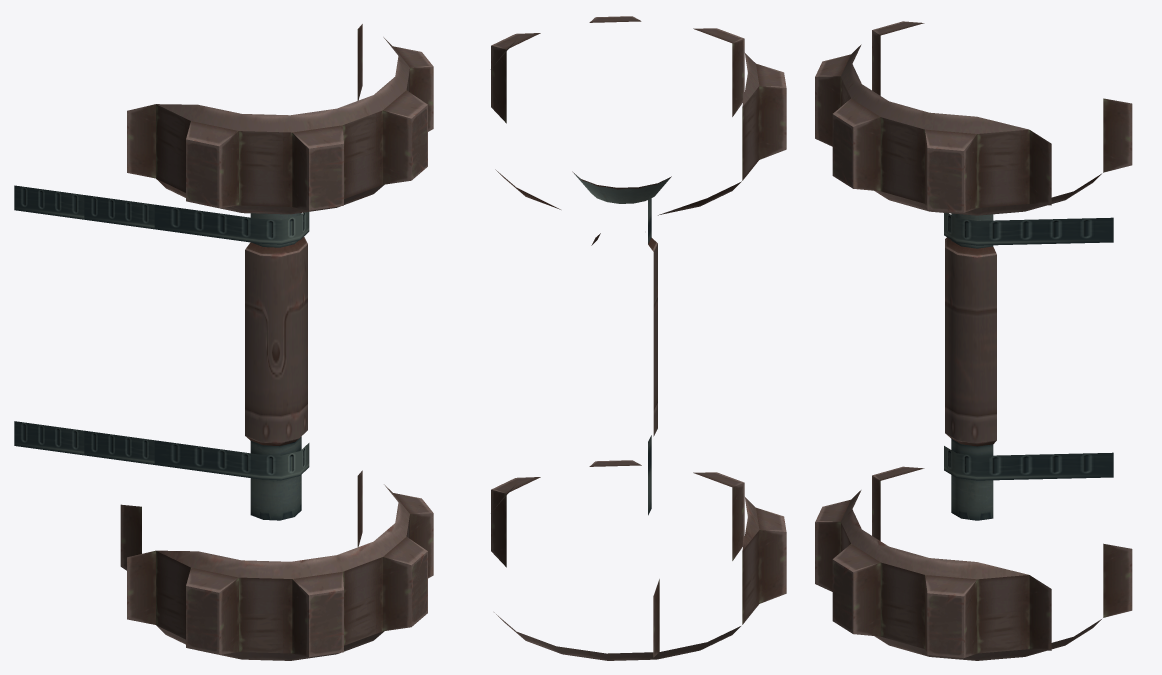
The model's file is gategear.glb.
The picture shows the model from 3 angles, left to right: view 1: azimuth 30°, elevation 25°; view 2: azimuth 150°, elevation 25°; view 3: azimuth 270°, elevation 25°; orthographic projection.
Visible parts, largest first — view 1: lab.gategear-MeshSets[device_left].Mesh[0], lab.gategear-MeshSets[device_left].Mesh[1]; view 2: lab.gategear-MeshSets[device_left].Mesh[0]; view 3: lab.gategear-MeshSets[device_left].Mesh[0], lab.gategear-MeshSets[device_left].Mesh[1].
Boxes of the visible parts, x1,y1,x2,y2 form: lab.gategear-MeshSets[device_left].Mesh[0]: (120,24,433,660); lab.gategear-MeshSets[device_left].Mesh[1]: (14,185,309,480); lab.gategear-MeshSets[device_left].Mesh[0]: (490,16,786,660); lab.gategear-MeshSets[device_left].Mesh[0]: (815,21,1132,660); lab.gategear-MeshSets[device_left].Mesh[1]: (944,213,1113,480).
Size of the model in its own units: 6.65 by 11 by 6.1.
2 materials, 2 textured.
